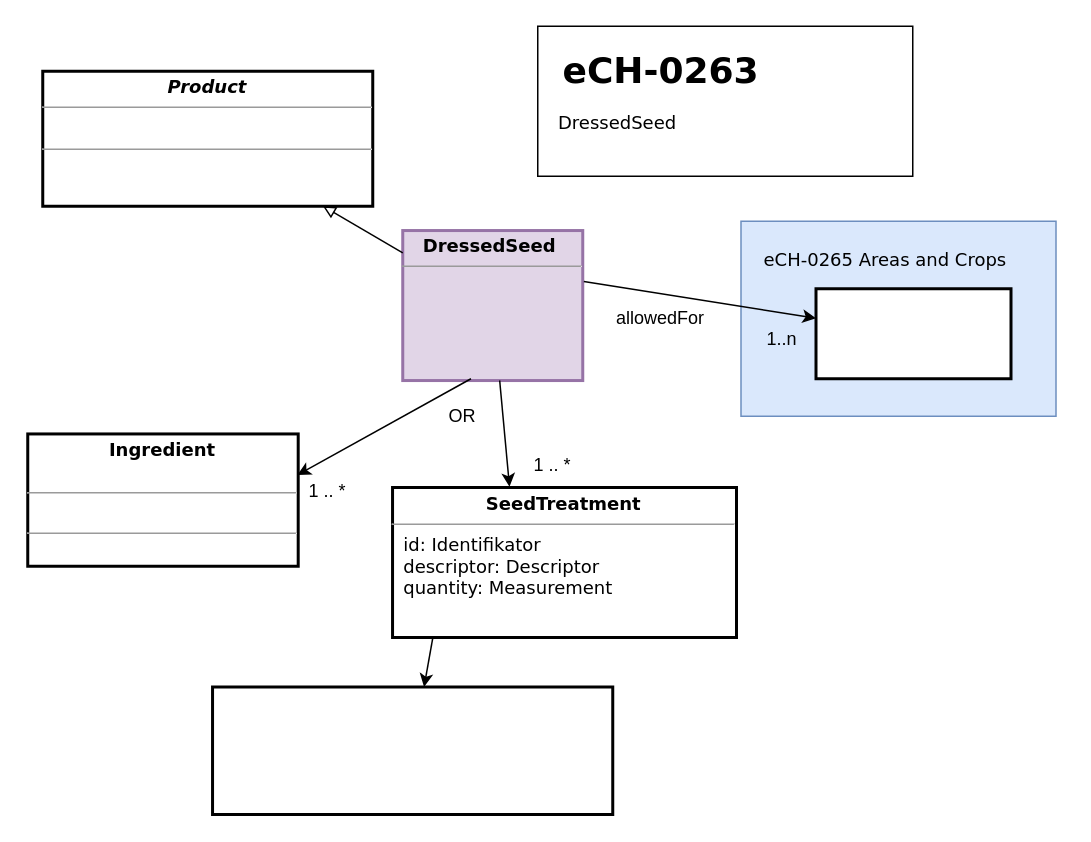
The diagram is 1091 pixels wide and 842 high, and some of its shapes have lost their labels. Each missing label, with the centre of its shape:
"BotanicalPlant" goes at [913,333].
"PlantProtection Product" goes at [412,750].
